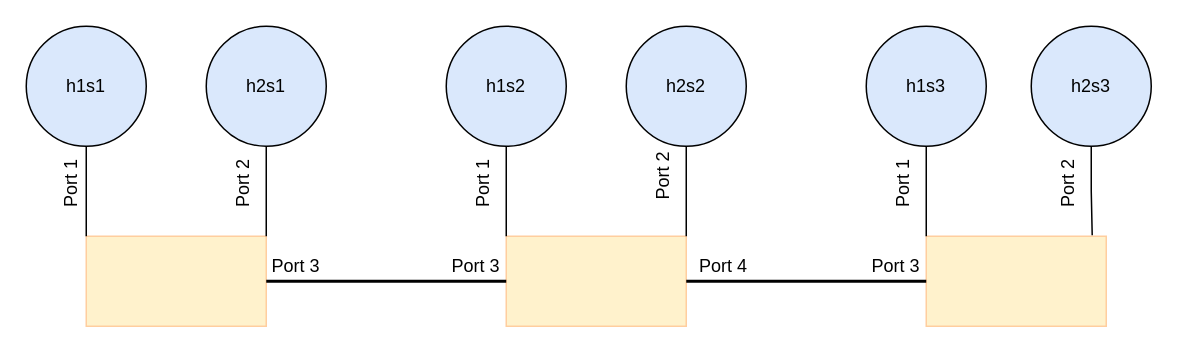
Some shapes in this 1178 by 353 pixel diagram are drawn without their labels. The centre of each missing label's shape, as x and y in pixels:
S1: pixel 175 280
S2: pixel 595 280
S3: pixel 1015 280
